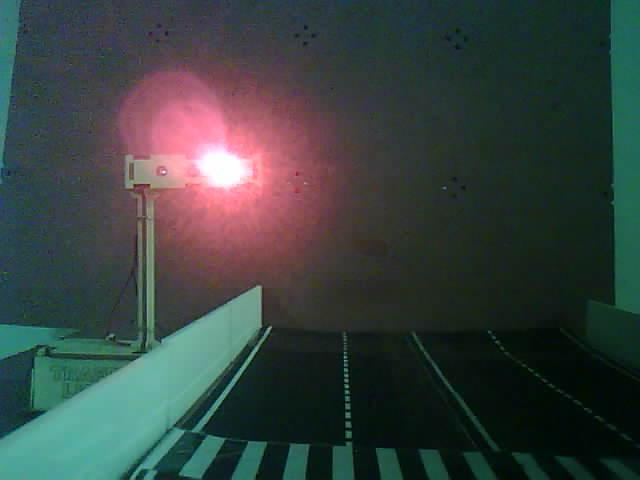crosswalk: (84, 374, 640, 480)
red: (99, 115, 297, 231)
